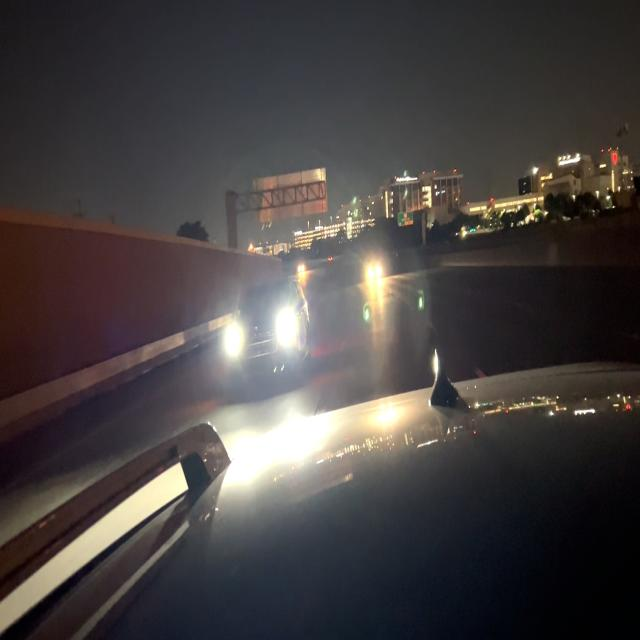back-of-sign: (253, 165, 327, 221)
